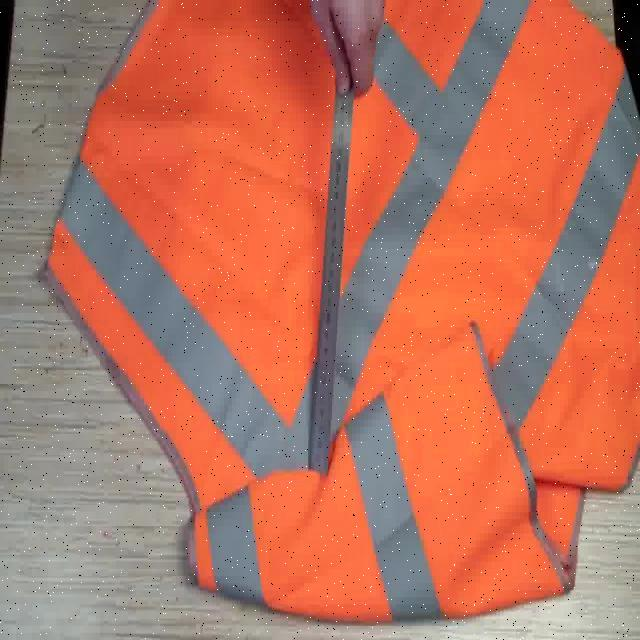Vest: (58, 6, 458, 633)
